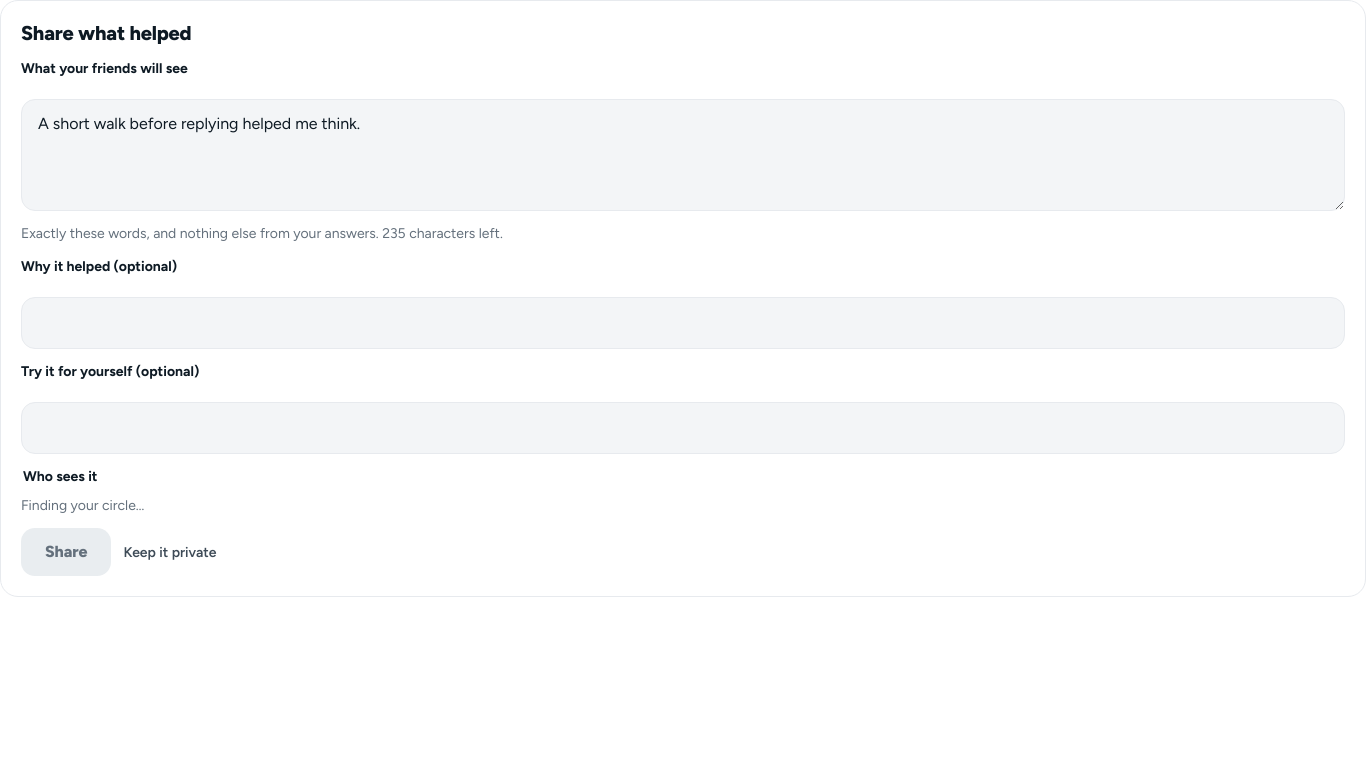
Test: sharing an insight › sends the exact approved words to the friends picked, and nothing else
Replace the text in the text box labelled "What your friends will see" with "A short walk before replying helped me think more clearly.": (683, 155) [21,99,1345,211]
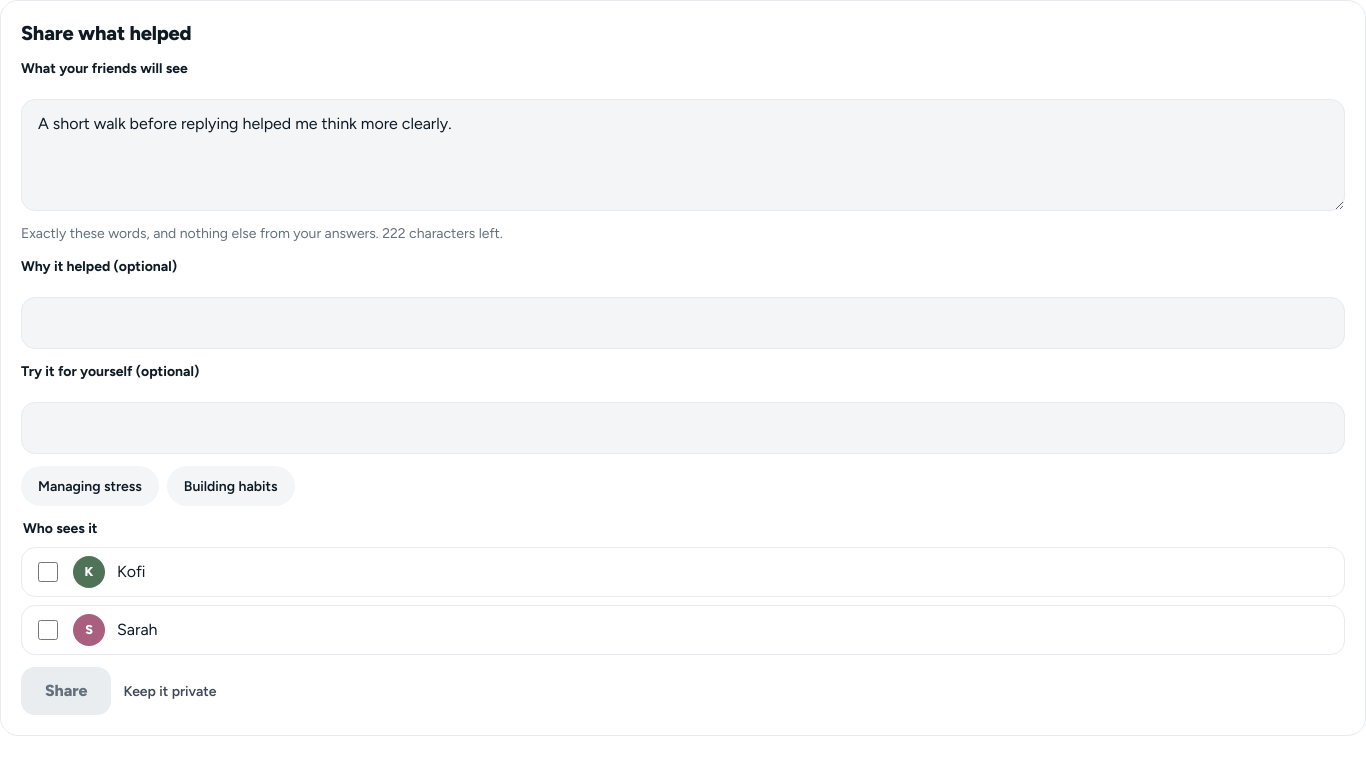
Click the button "Managing stress": (90, 486) [21,466,159,506]
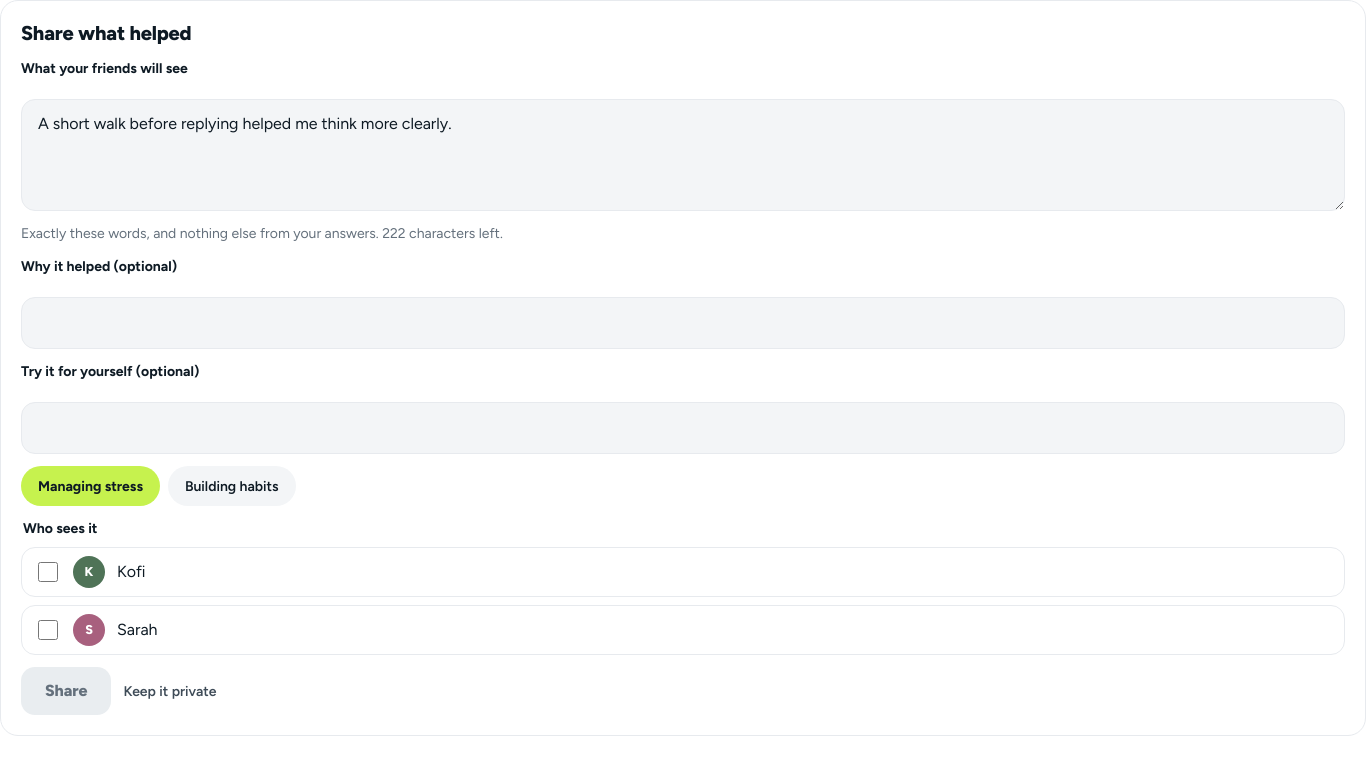
Expected: the button "Share" is disabled, [21,667,111,715]
Click the checkbox labelled "Kofi": (48, 572) [38,562,58,582]
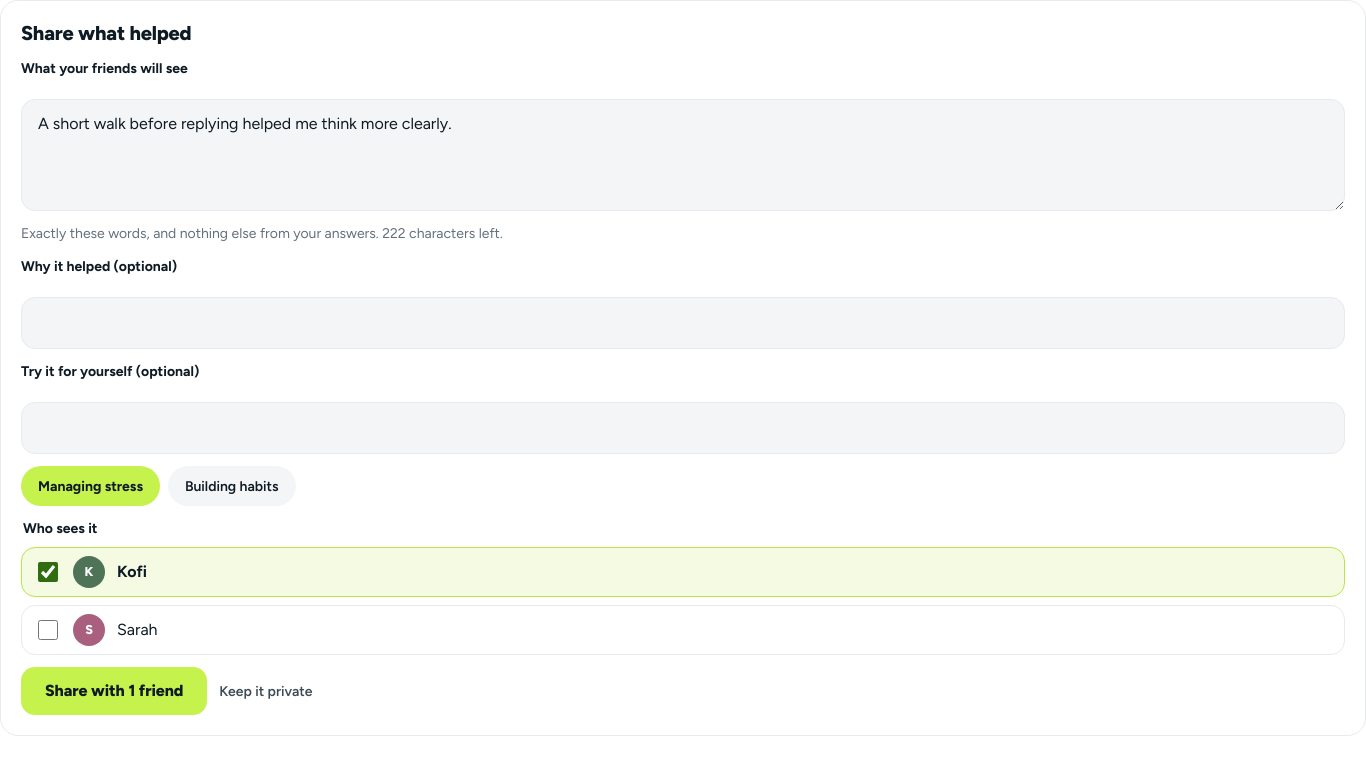
Click the button "Share with 1 friend": (114, 691) [21,667,207,715]
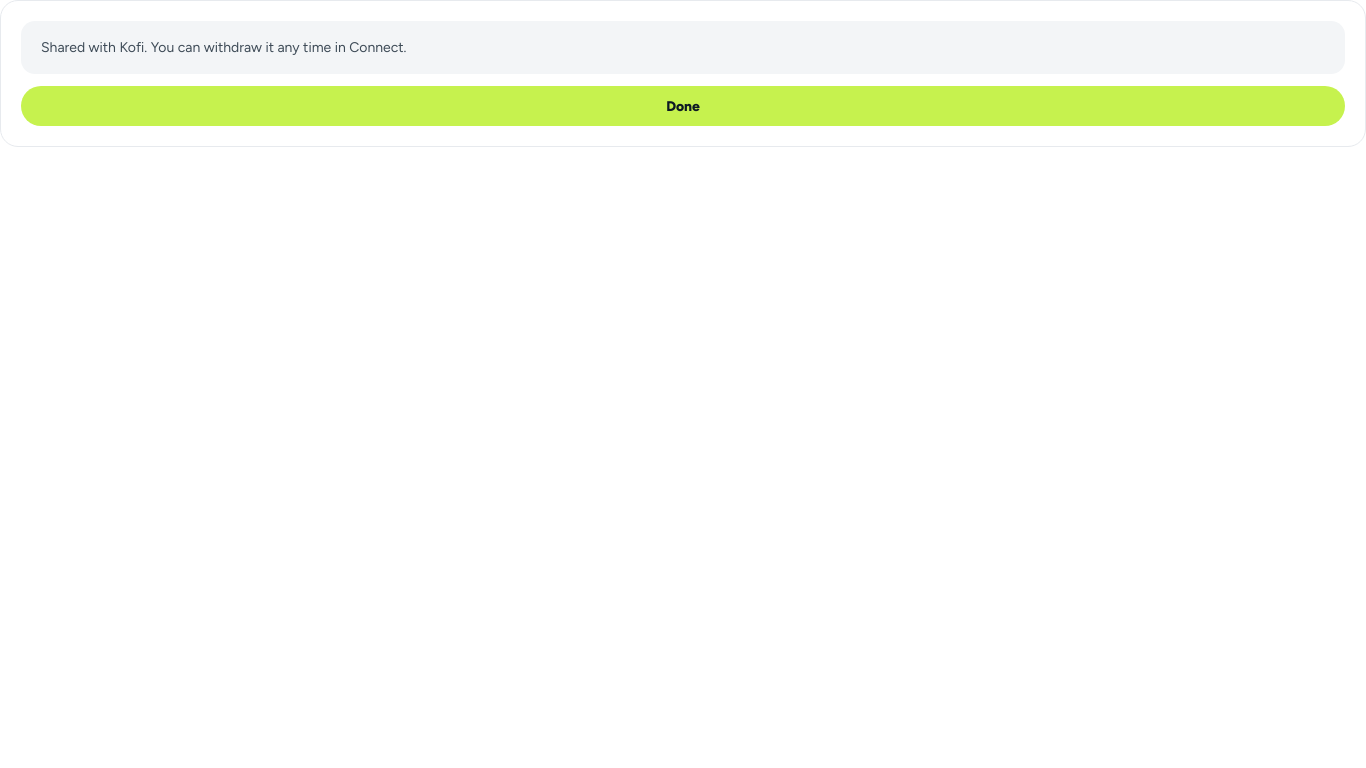
Expected: the message reads "Shared with Kofi. You can withdraw it any time in Connect.", [21,21,1345,74]
